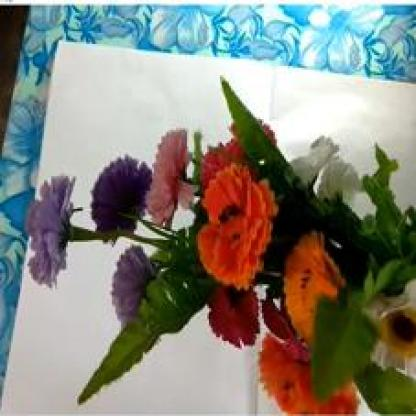flower: (33, 72, 414, 414)
